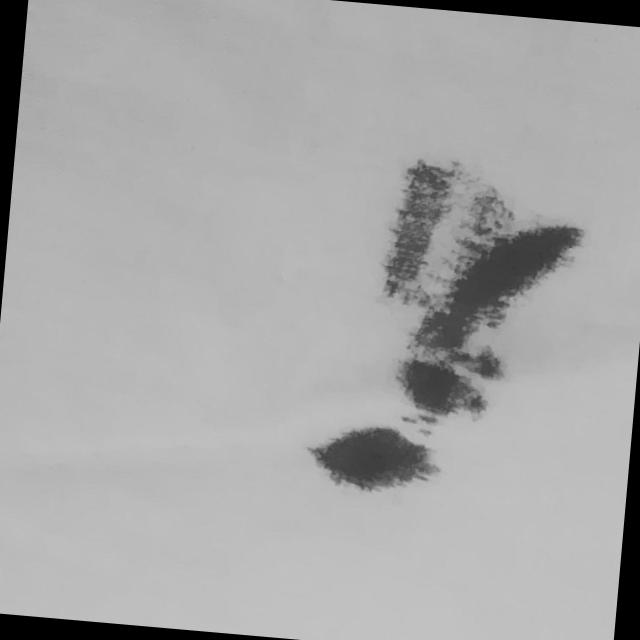Stain: (368, 157, 592, 430), (291, 419, 440, 498)
